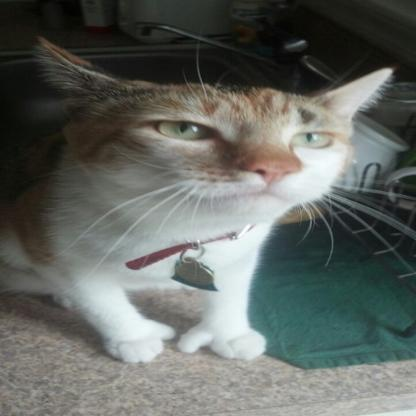Target: (0, 25, 395, 373)
